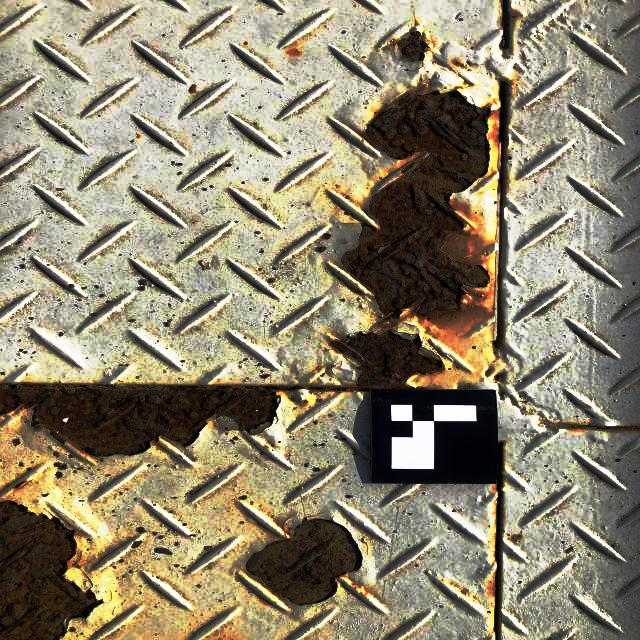Corrosion: (342, 90, 491, 317), (0, 384, 279, 457), (0, 502, 98, 640), (245, 519, 362, 606), (329, 331, 444, 389), (397, 30, 429, 61)
